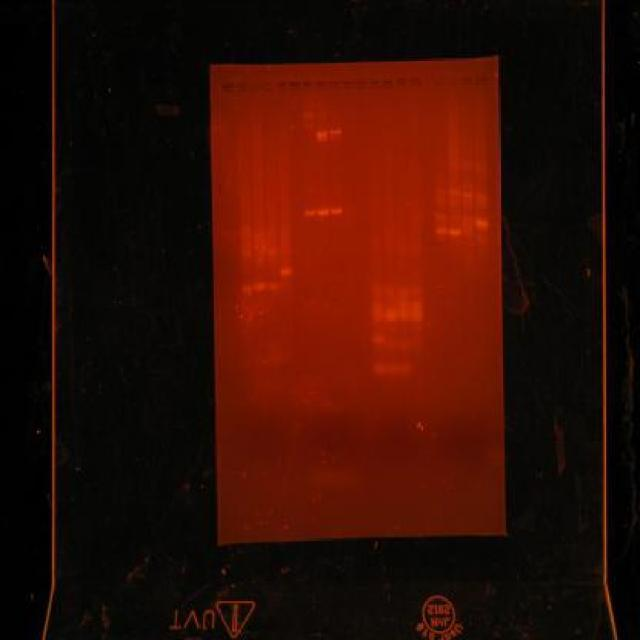B: (369, 302, 383, 324), (369, 280, 383, 298), (383, 306, 397, 322), (399, 362, 413, 378), (386, 336, 399, 352), (370, 333, 384, 347), (396, 284, 410, 298), (410, 336, 424, 350), (411, 309, 424, 323), (372, 363, 385, 377), (386, 363, 399, 377), (474, 217, 488, 230), (382, 284, 395, 298), (398, 338, 411, 352), (410, 284, 422, 298), (396, 310, 409, 322), (396, 298, 409, 310), (461, 198, 474, 210), (474, 233, 488, 244), (316, 130, 329, 141), (239, 247, 252, 258), (266, 282, 280, 292), (460, 228, 474, 238), (434, 212, 448, 222), (410, 299, 422, 310), (254, 282, 266, 292), (435, 227, 448, 236), (448, 197, 461, 206), (278, 268, 292, 276), (474, 192, 488, 200), (460, 222, 474, 230), (448, 213, 460, 222), (240, 286, 253, 294), (448, 228, 461, 236), (461, 190, 474, 198), (448, 188, 461, 196), (475, 200, 488, 208), (434, 188, 448, 195), (279, 248, 292, 255), (330, 208, 344, 214), (434, 196, 448, 202), (329, 128, 342, 134), (461, 216, 474, 222), (318, 210, 330, 216), (304, 210, 316, 216), (302, 124, 315, 128), (302, 112, 315, 115), (302, 115, 315, 118)
L: (217, 70, 492, 98)
Pc: (234, 80, 248, 94), (434, 74, 448, 88), (275, 79, 288, 92), (288, 79, 301, 92), (302, 78, 315, 91), (260, 80, 274, 92), (354, 78, 368, 90), (448, 74, 461, 86), (341, 78, 354, 90), (328, 78, 341, 90), (220, 82, 234, 93), (474, 74, 488, 85), (394, 76, 408, 87), (380, 77, 394, 88), (248, 81, 261, 92), (461, 74, 474, 85), (408, 76, 421, 87), (368, 77, 381, 88), (315, 79, 328, 90)
